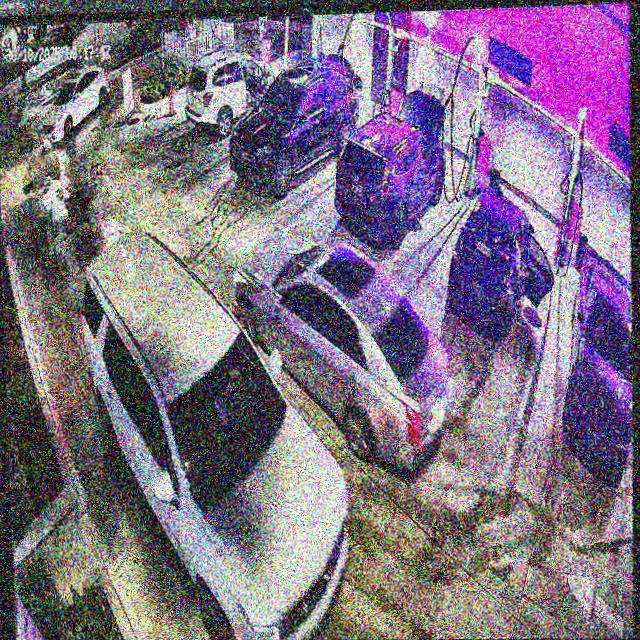Car: (77, 227, 350, 639), (244, 223, 452, 472), (237, 58, 362, 194), (340, 84, 445, 244), (456, 181, 552, 334)
